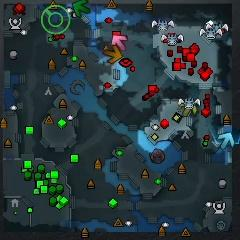Other: (42, 5, 70, 36)
x1: (112, 35, 128, 51)
x2: (179, 103, 198, 115)
x3: (219, 131, 235, 149)
x4: (72, 1, 91, 16)
x5: (104, 45, 121, 64)
